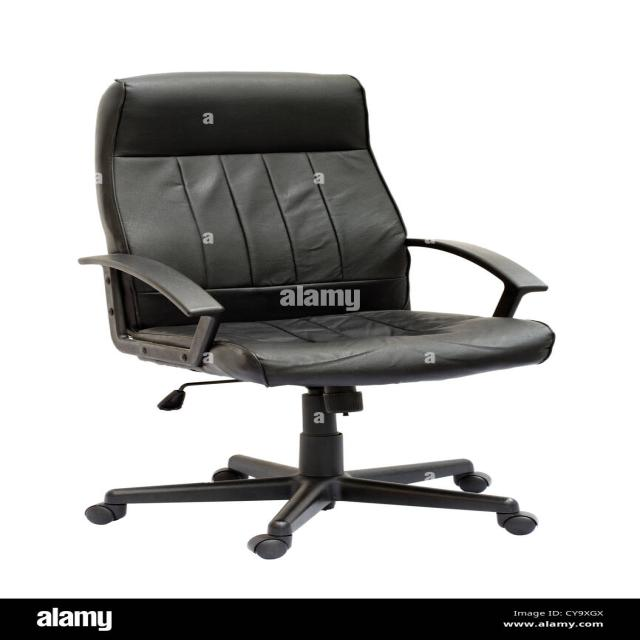chair: (78, 70, 555, 559)
